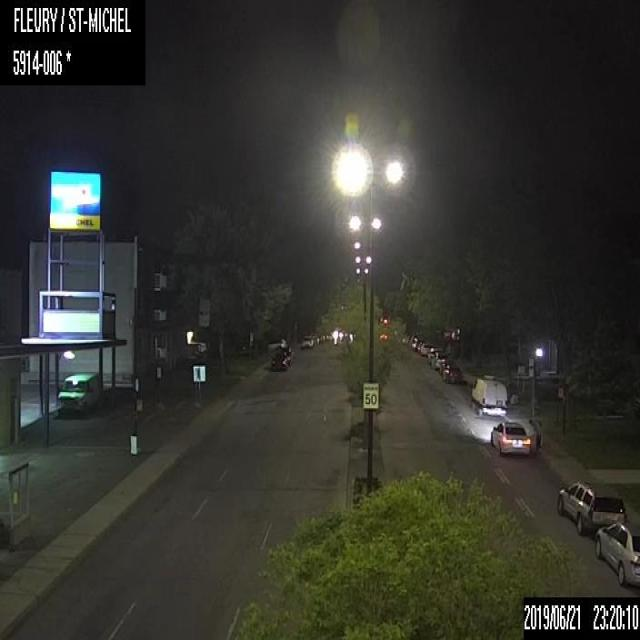pedestrian: (528, 418, 539, 451), (536, 417, 543, 447)
vehicle: (557, 479, 625, 534), (596, 521, 639, 587), (57, 372, 98, 413), (471, 375, 507, 415), (490, 420, 529, 455), (442, 364, 461, 383), (270, 351, 290, 369), (431, 351, 450, 369), (268, 337, 286, 349), (300, 335, 313, 349), (428, 347, 437, 362), (420, 342, 429, 354)
